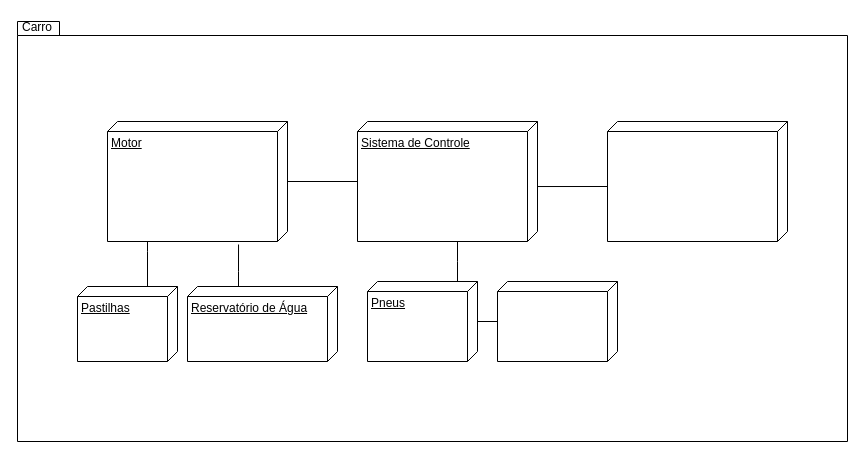
The diagram is 865 pixels wide and 459 high, and some of its shapes have lost their labels. The shapes that lost their labels are listed below. From the top down, each one's box as (x1, y1, x2, y2) in pixels, then its label:
(606, 120, 788, 242): Sistema de Freios
(496, 280, 618, 362): Calota
